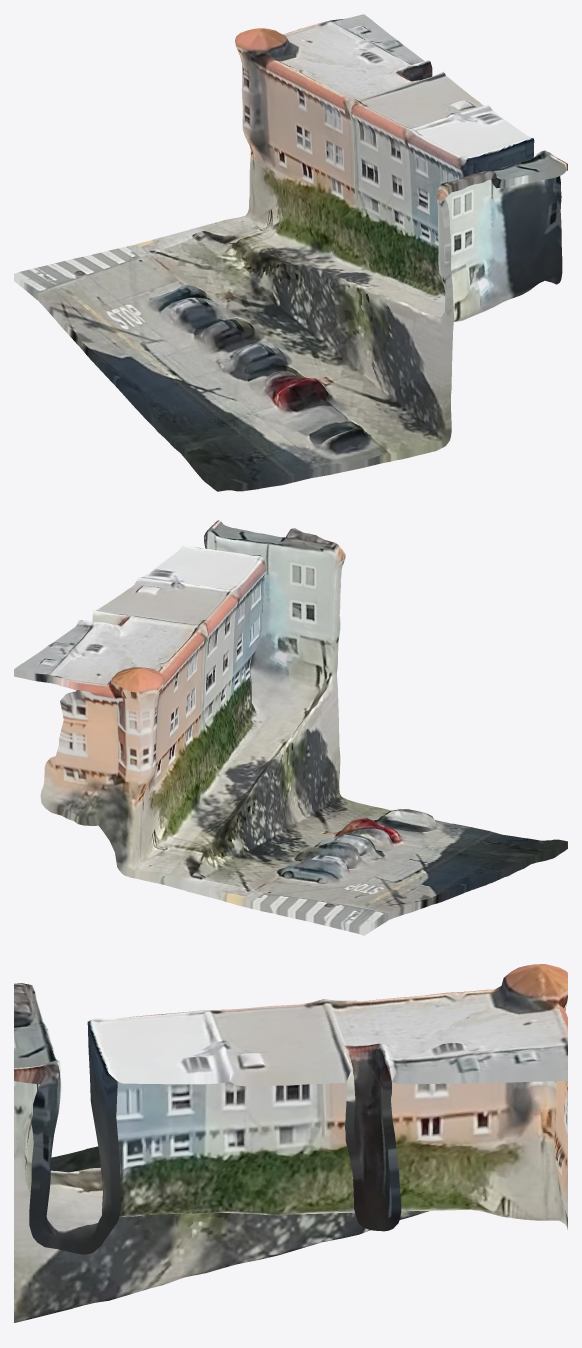
The model's file is z20-167720-405195-h0-yup-uvflip-v3-world.glb.
The picture shows the model from 3 angles, top to bottom: view 1: azimuth 30°, elevation 25°; view 2: azimuth 150°, elevation 25°; view 3: azimuth 270°, elevation 25°; orthographic projection. The views are drawn at different scales.
Bounding box in the file's own units: 30.16 × 22.72 × 30.32.
Materials: 1 (1 with a texture image).
